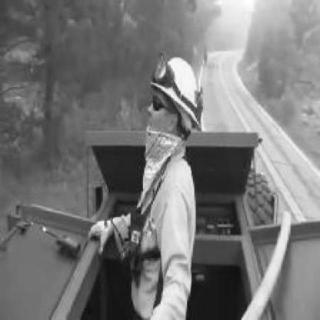other: (127, 44, 225, 316)
